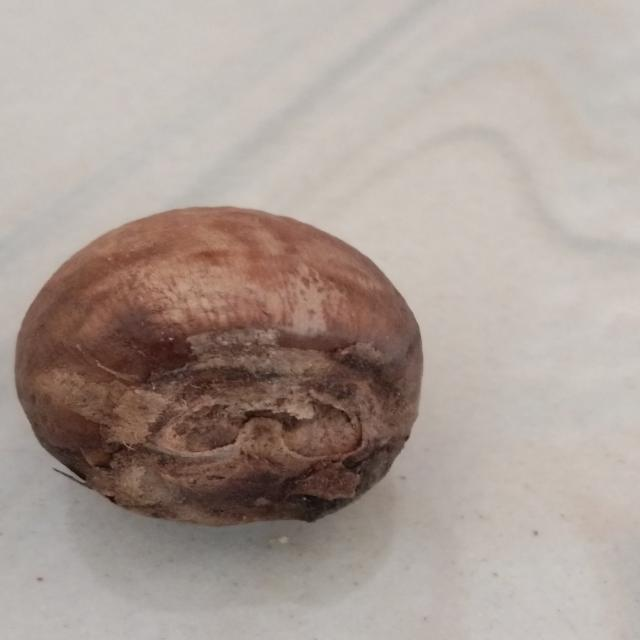karigot: (13, 186, 436, 546)
